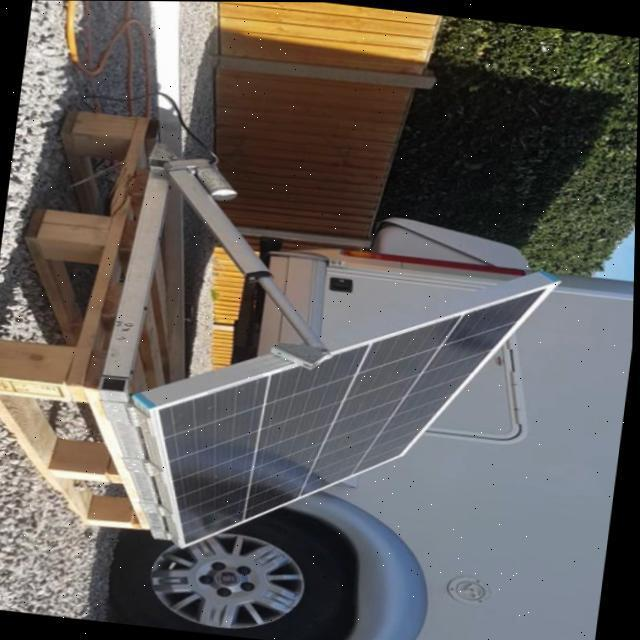Normal Solar Panel: (138, 238, 555, 580)
